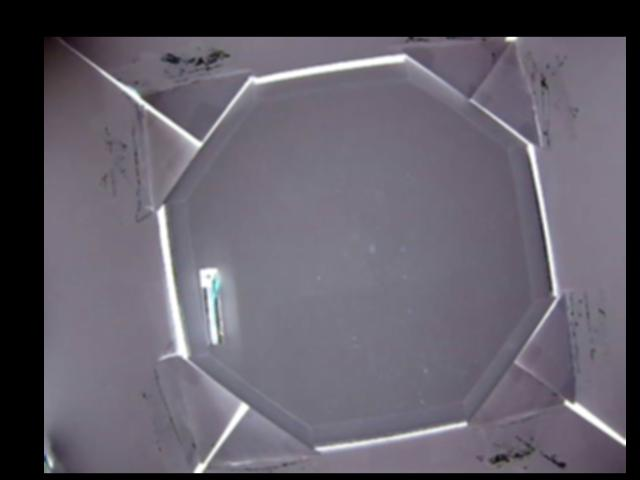Battery: (198, 269, 223, 346)
